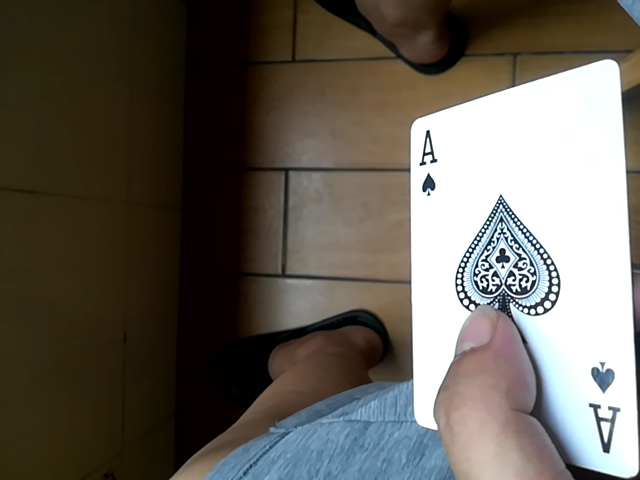ht a: (405, 54, 637, 473)
